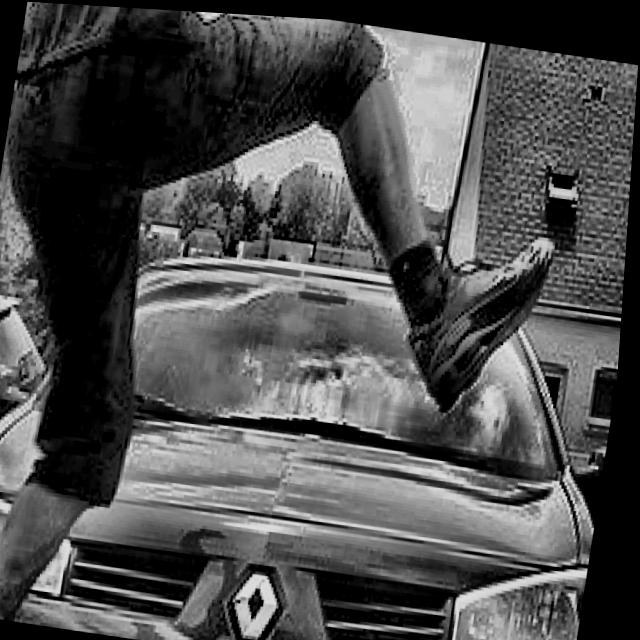light_vehicle: (0, 207, 629, 640)
